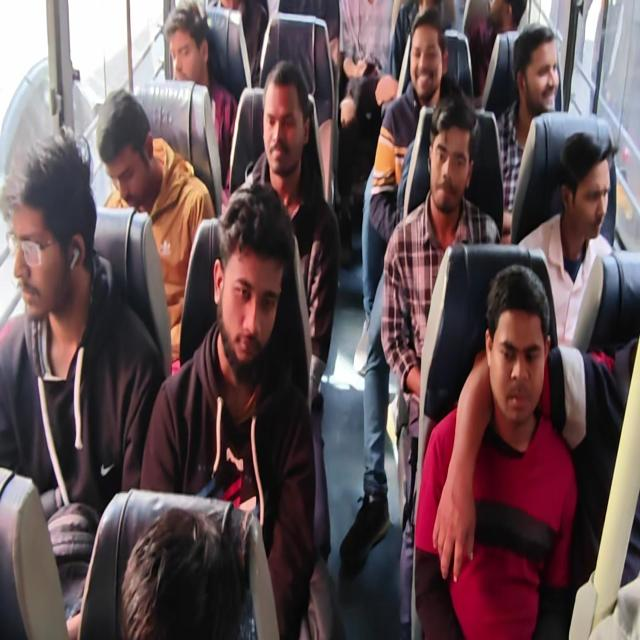person: (138, 505, 240, 640), (10, 166, 83, 317), (215, 219, 281, 373), (488, 280, 548, 427), (97, 99, 150, 208), (568, 138, 617, 251), (425, 120, 472, 214), (254, 90, 302, 174), (519, 32, 567, 112), (409, 26, 443, 105), (170, 12, 205, 80), (487, 0, 526, 30)
